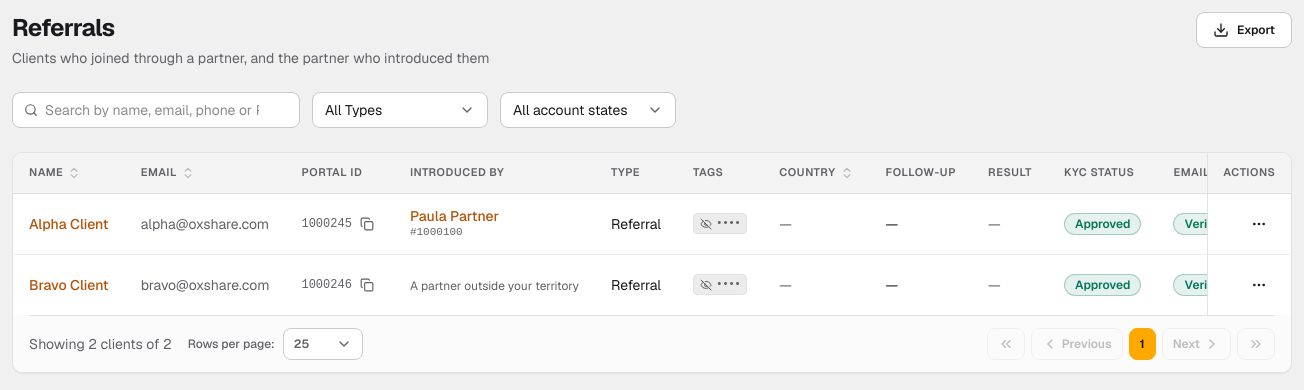
Test: the Referrals page › offers only the types a referred client can be
Expected: the text "alpha@oxshare.com" is shown, [141,214,269,234]
Note: A Radix Select: the options exist only once the trigger is opened.
Click the dropdown labelled "All Types" at (400, 110), box [312,92,488,128]
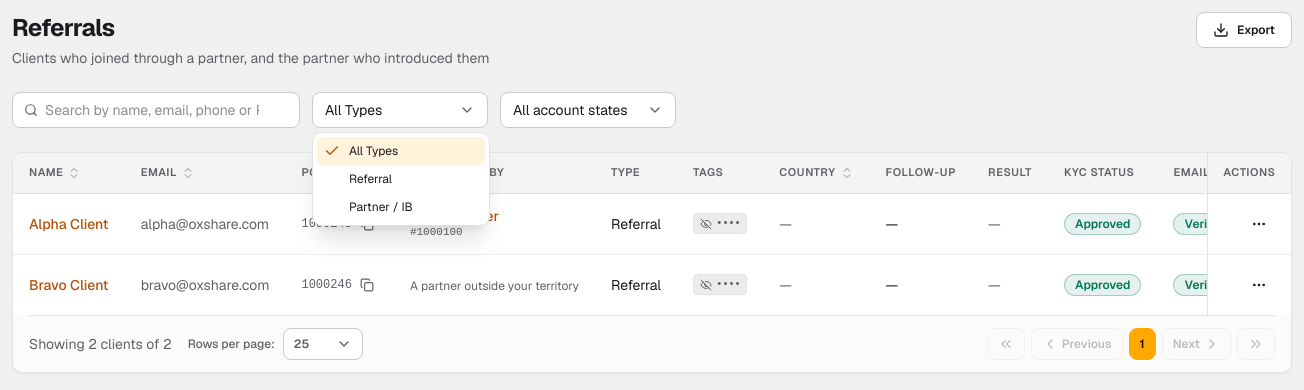
Now the option "Referral" is shown, box [349,171,392,187]
Now the option "Partner / IB" is shown, box [349,199,413,215]
